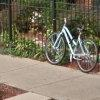bicycles: (44, 18, 98, 72)
